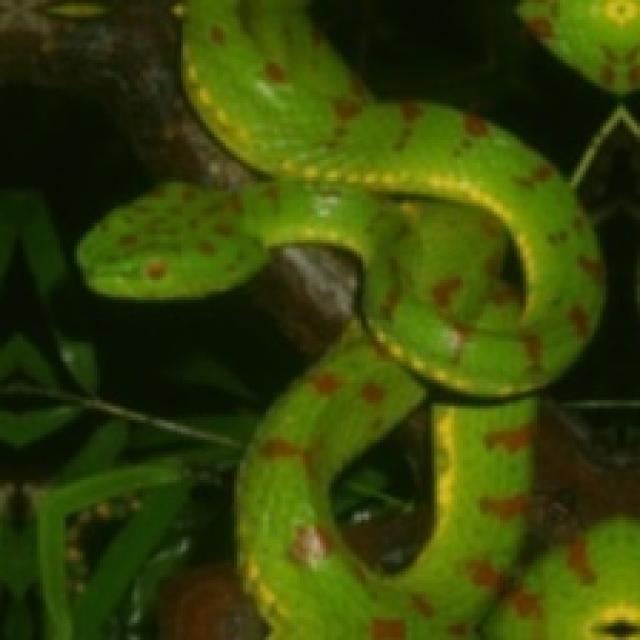philippine pitviper: (77, 0, 603, 637), (486, 516, 640, 640), (329, 389, 434, 569), (519, 0, 640, 94)
